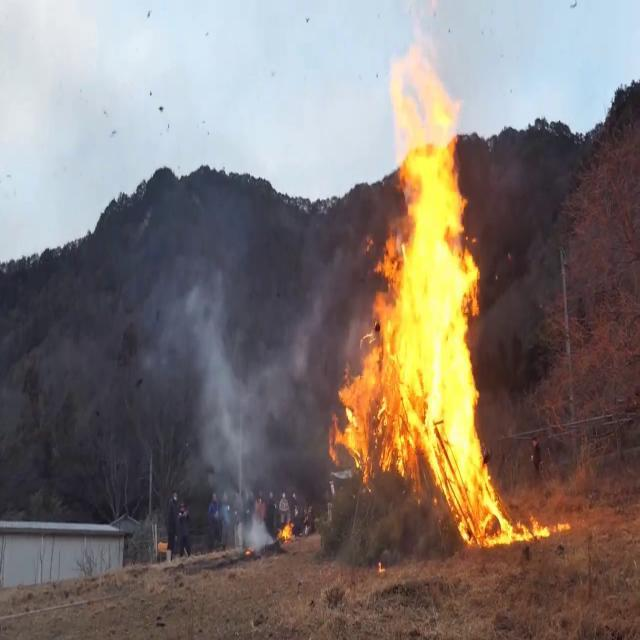Fire: (334, 33, 500, 554), (504, 506, 572, 550), (278, 518, 296, 546)
Smoke: (140, 260, 332, 550)
